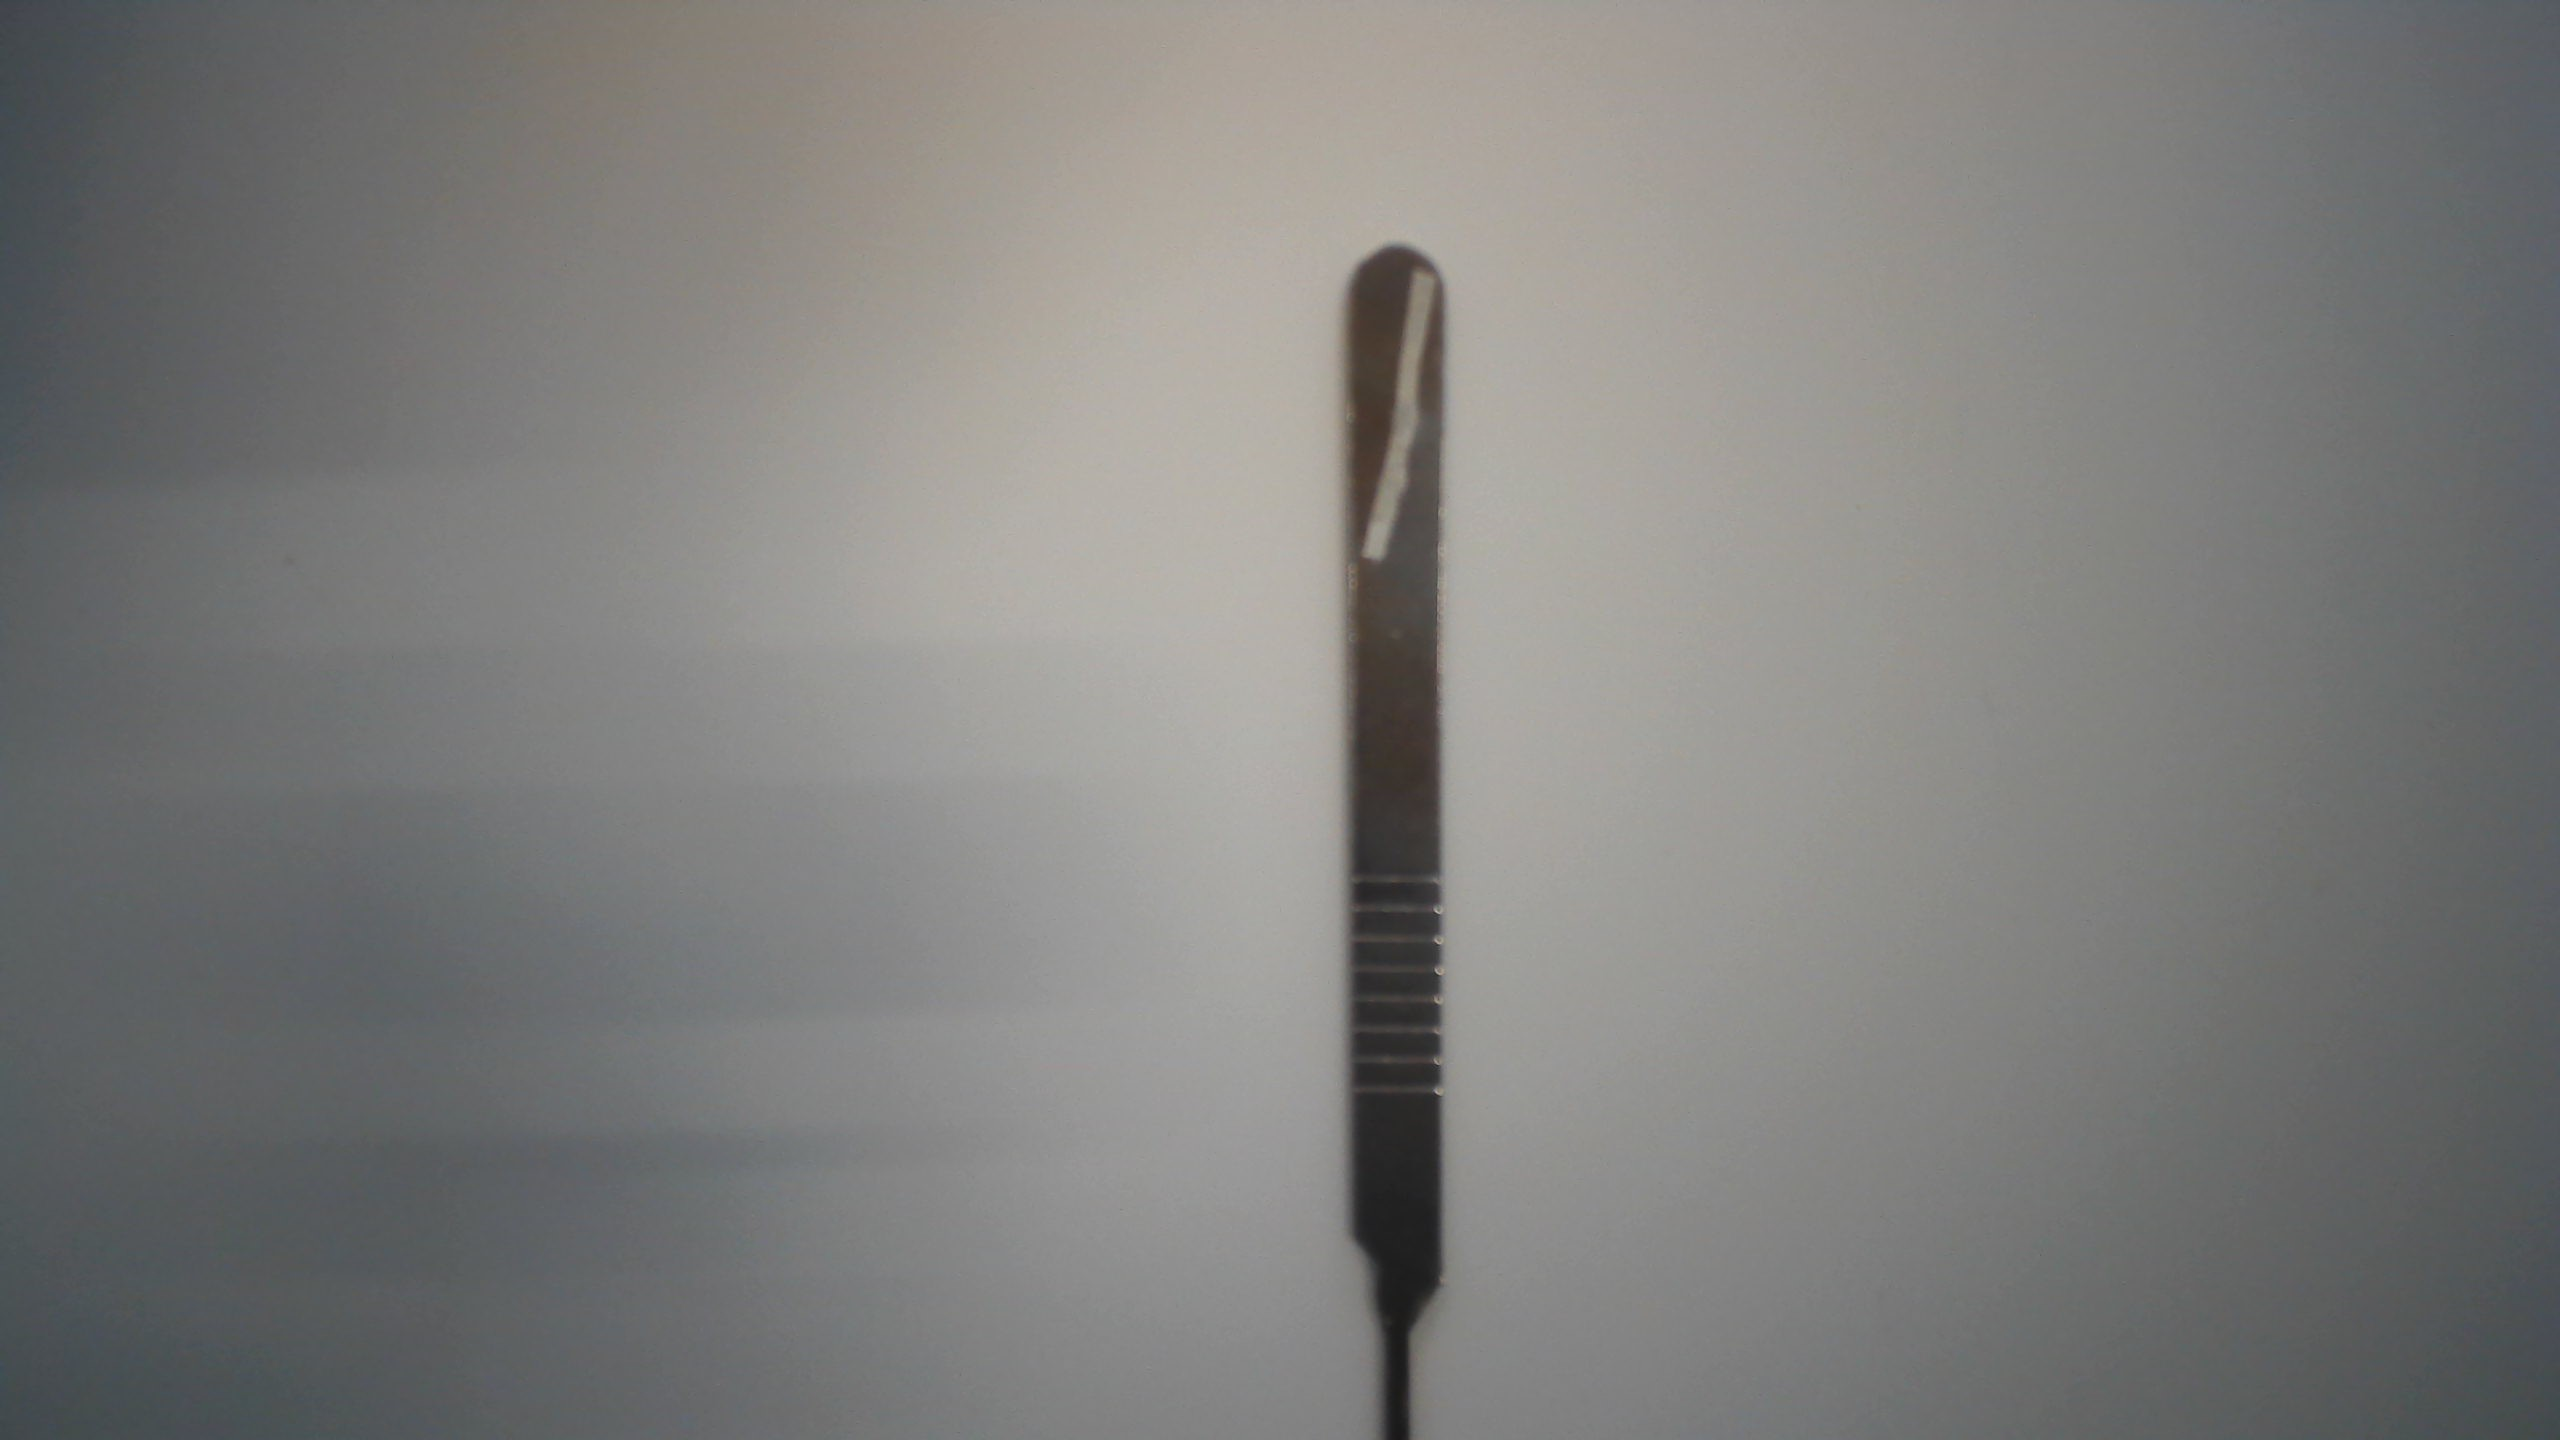Scratches: (1356, 258, 1442, 571)
